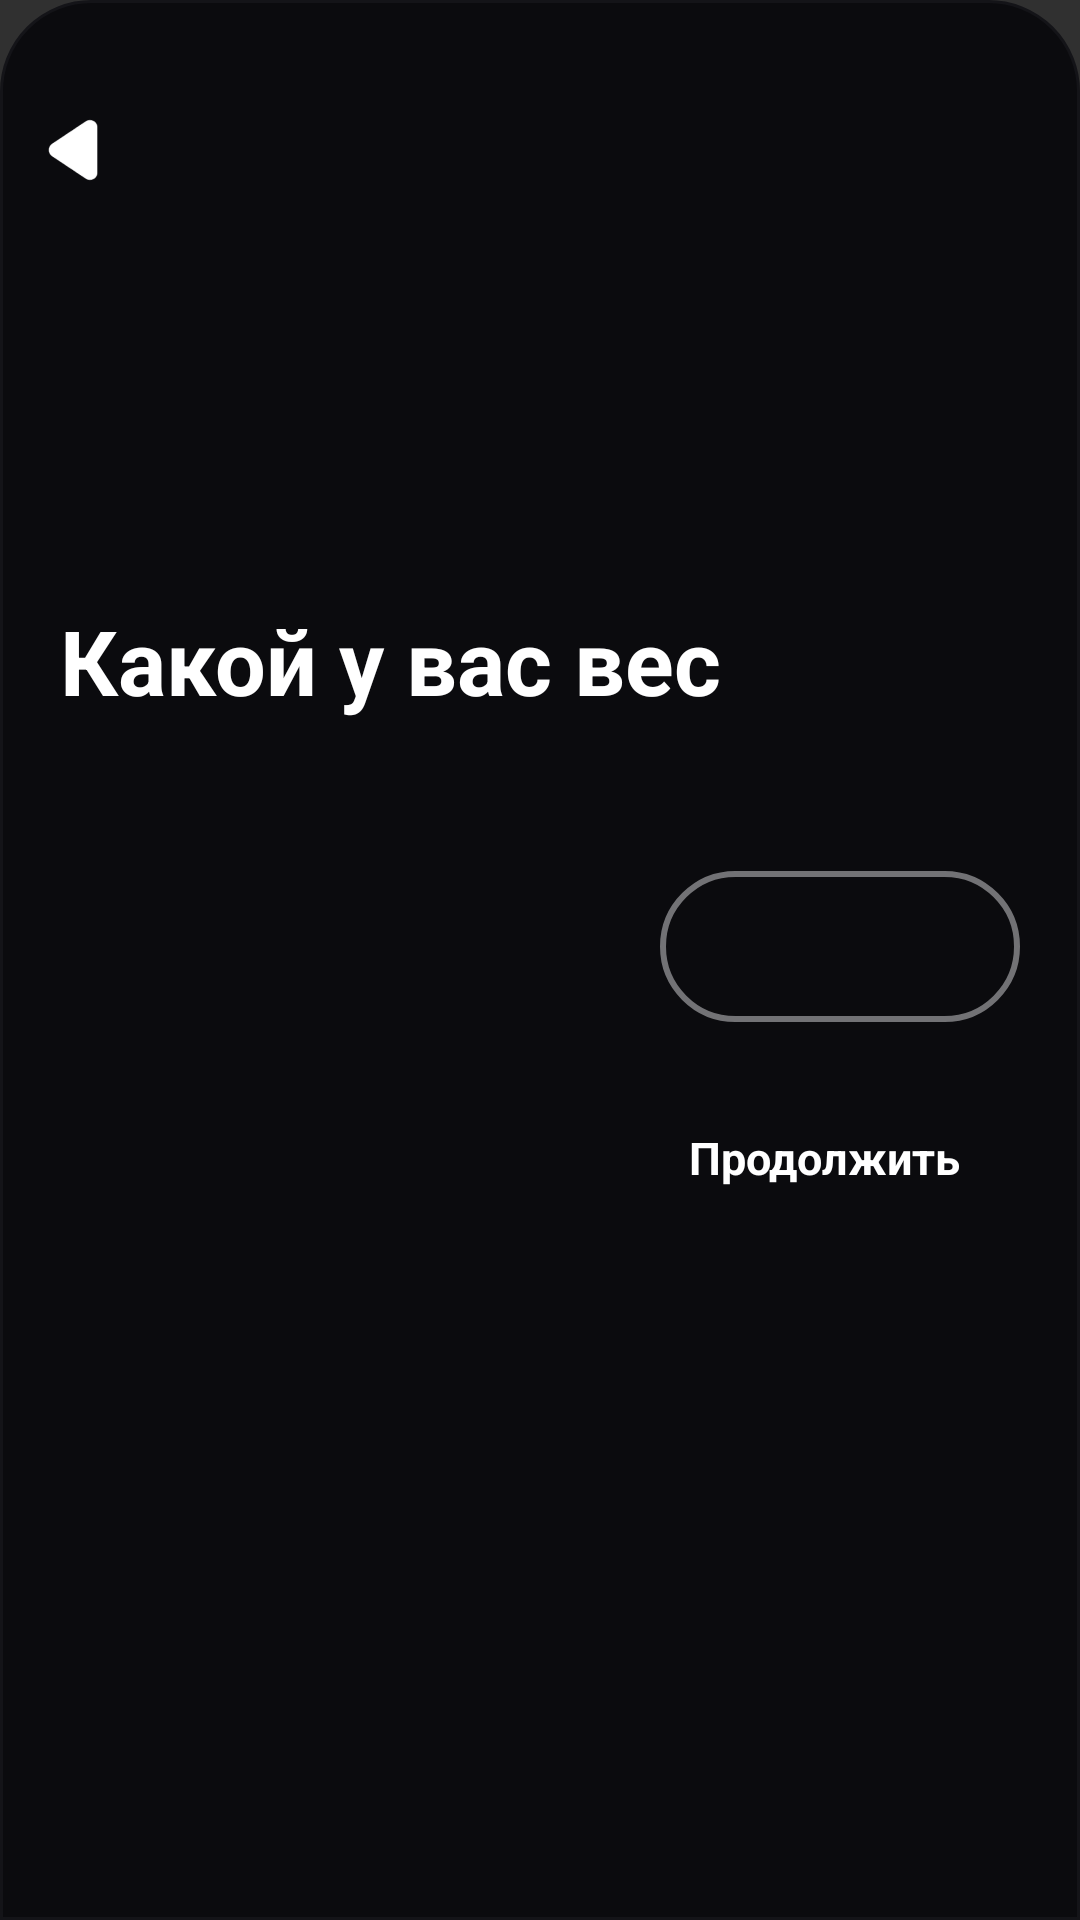

Icons on this 1080w x 1920h Android screen, each with its box as box=[x1, y1, x2, y2]:
back: box=[48, 120, 98, 180]
